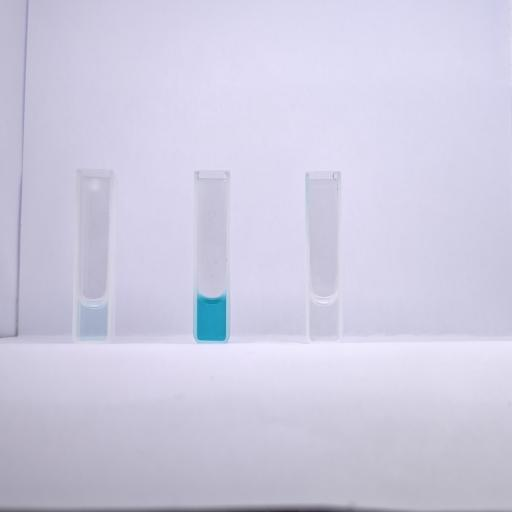cuvette: (72, 166, 116, 346), (304, 169, 344, 344), (192, 168, 231, 344)
liquid: (197, 294, 226, 340), (78, 297, 107, 340), (310, 296, 338, 340)
